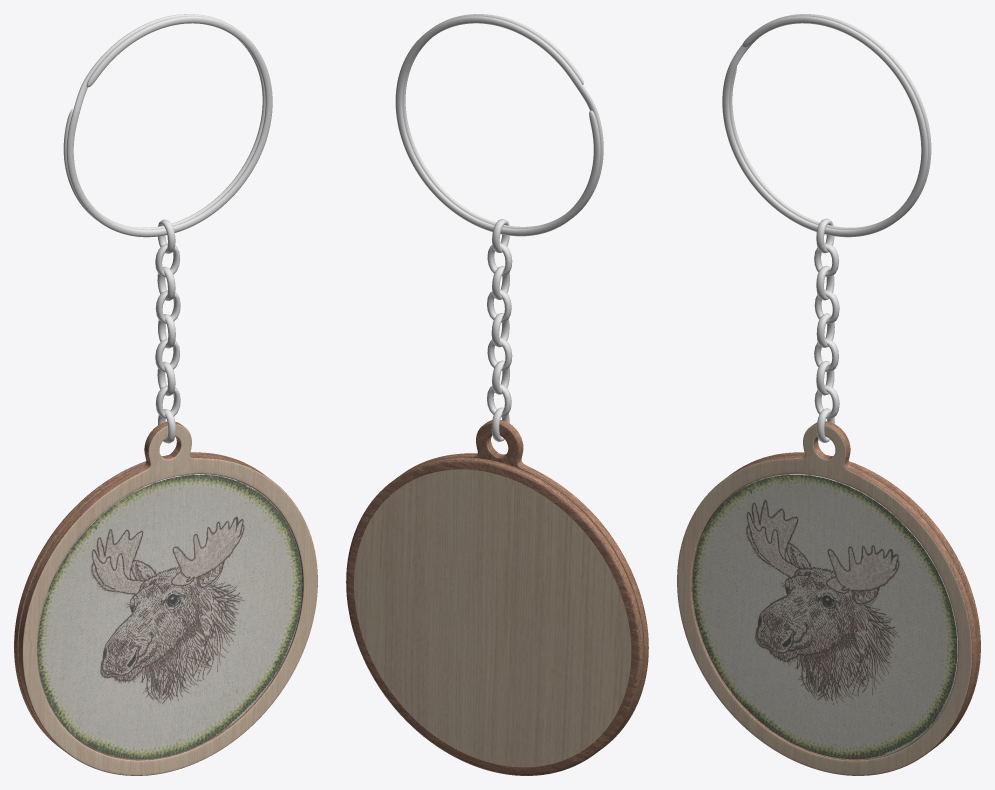
The model's file is Keychain.glb.
3 renders of one model, left to right at view 1: azimuth 30°, elevation 25°; view 2: azimuth 150°, elevation 25°; view 3: azimuth 330°, elevation 25°, orthographic.
Parts seen in each view (by area): view 1: Circle.002; view 2: Circle.002; view 3: Circle.002.
Boxes of the visible parts, <box> form: Circle.002: <box>14,14,317,775</box>; Circle.002: <box>346,14,648,775</box>; Circle.002: <box>677,14,980,775</box>.
Size of the model in its own units: 0.4965 by 1.21 by 0.0397.
4 materials, 3 textured.
